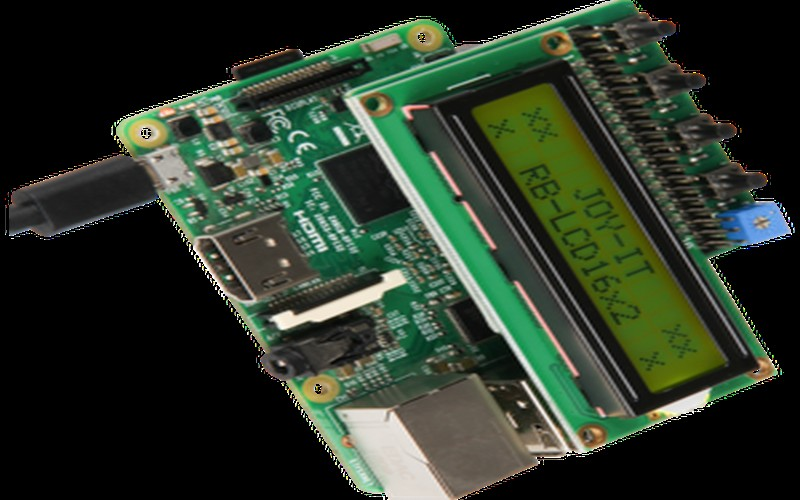LCD: (413, 49, 768, 426)
